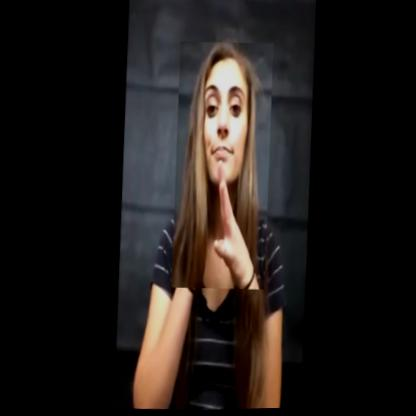Talk: (167, 40, 276, 293)
